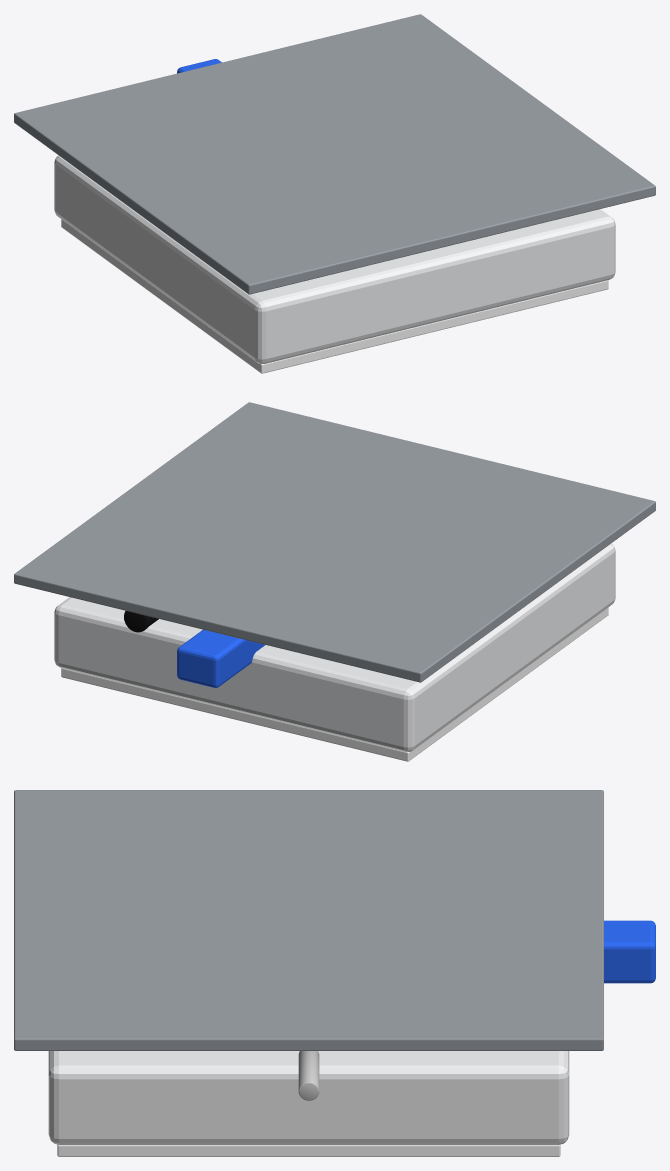
3 views of the same model, one above another, from view 1: azimuth 30°, elevation 25°; view 2: azimuth 150°, elevation 25°; view 3: azimuth 270°, elevation 25° (orthographic). The views are drawn at different scales.
Visible parts, largest first — view 1: bracket, body, cover; view 2: bracket, body, cover, ethplug; view 3: bracket, body, cover, ethplug, pin.
Boxes of the visible parts, left/top/right/bottom form: bracket: left=14, top=14, right=655, bottom=294; body: left=54, top=155, right=615, bottom=363; cover: left=61, top=219, right=608, bottom=373; bracket: left=14, top=402, right=655, bottom=682; body: left=54, top=543, right=615, bottom=751; cover: left=61, top=607, right=608, bottom=761; ethplug: left=177, top=629, right=264, bottom=687; bracket: left=14, top=790, right=603, bottom=1050; body: left=48, top=1051, right=569, bottom=1144; cover: left=57, top=1144, right=560, bottom=1156; ethplug: left=604, top=920, right=655, bottom=983; pin: left=298, top=1051, right=319, bottom=1100.
Size of the model in its own units: 3.5 by 0.97 by 3.7.
